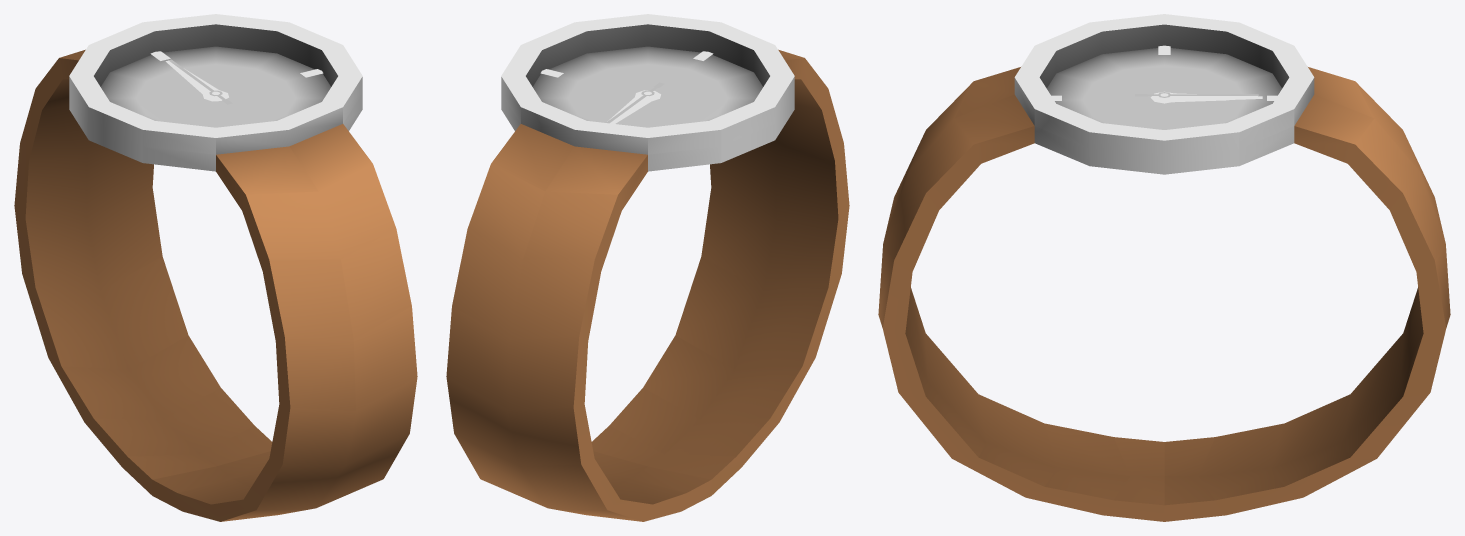
File: Watch.fbx
The picture shows the model from 3 angles, left to right: view 1: azimuth 30°, elevation 25°; view 2: azimuth 150°, elevation 25°; view 3: azimuth 270°, elevation 25°; orthographic projection. The views are drawn at different scales.
Parts seen in each view (by area): view 1: Watch, Minutes; view 2: Watch, Minutes; view 3: Watch, Minutes.
Boxes of the visible parts, x1=… form: Watch: x1=14, y1=14, x2=417, y2=521; Minutes: x1=165, y1=60, x2=228, y2=101; Watch: x1=446, y1=14, x2=849, y2=521; Minutes: x1=607, y1=90, x2=660, y2=123; Watch: x1=878, y1=14, x2=1450, y2=521; Minutes: x1=1150, y1=91, x2=1262, y2=103.
Bounding box in the file's own units: 24000 × 45796 × 36737.
